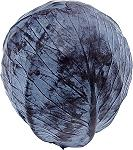cabbage: (1, 2, 132, 149)
